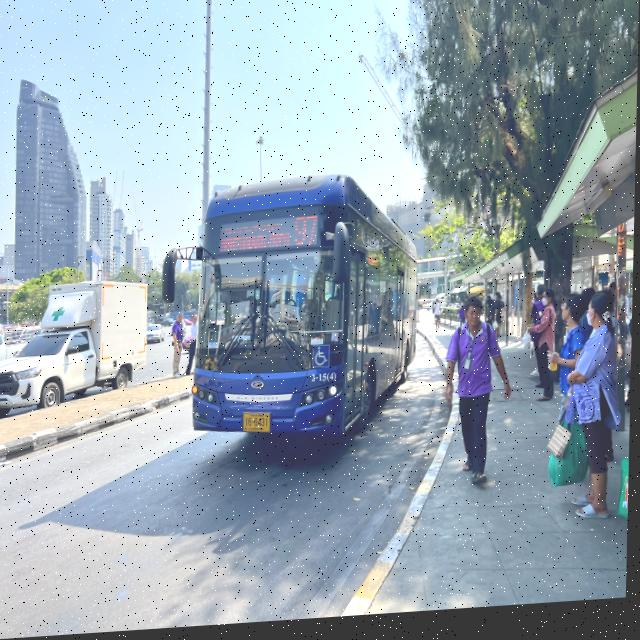Bus-Line-Number: (294, 215, 321, 255)
Destination-Sign-Normal: (219, 219, 293, 258)
TSB-Bus: (191, 174, 421, 453)
